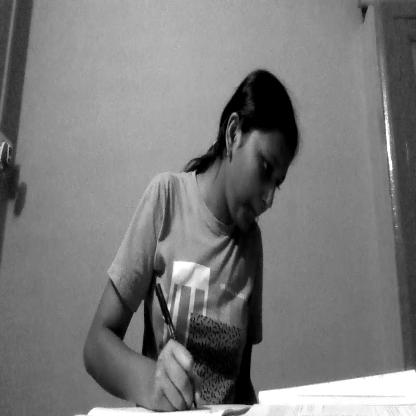Distracted: (221, 94, 300, 233)
